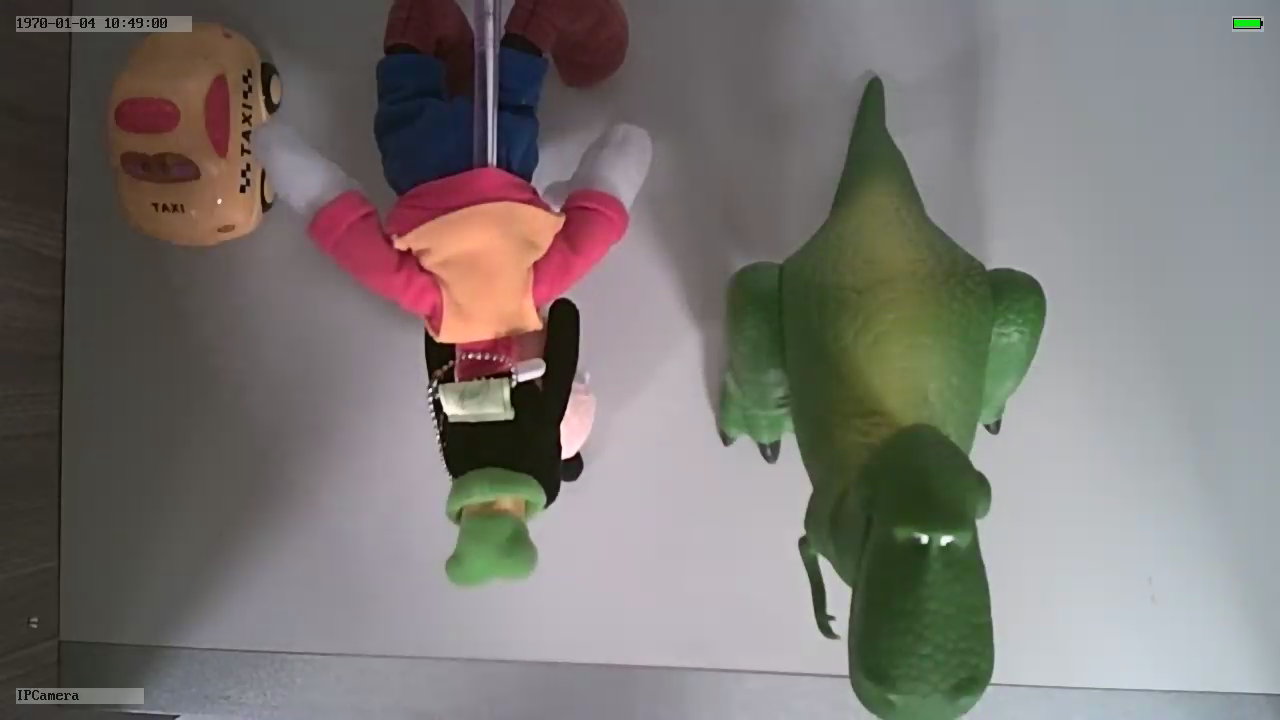goofy: (257, 118, 653, 585)
